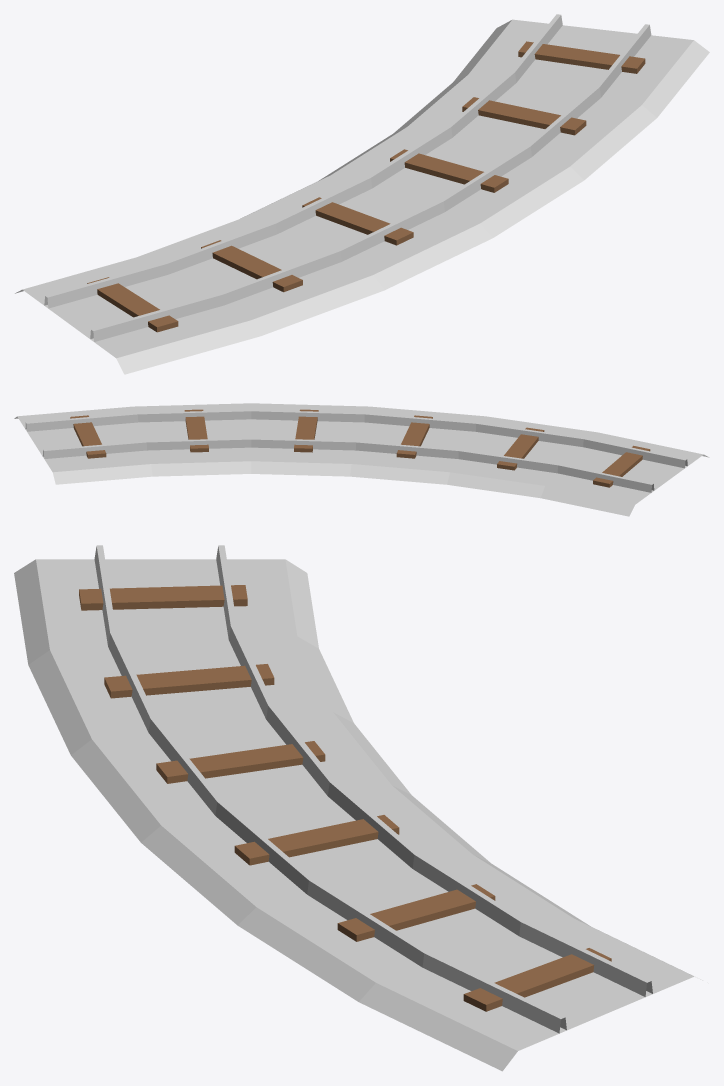
The model's file is 1_curve_medium_half.fbx.
The picture shows the model from 3 angles, top to bottom: view 1: azimuth 30°, elevation 25°; view 2: azimuth 150°, elevation 25°; view 3: azimuth 270°, elevation 25°; orthographic projection. The views are drawn at different scales.
Visible parts, largest first — view 1: 1_curve_medium_half; view 2: 1_curve_medium_half; view 3: 1_curve_medium_half.
Boxes of the visible parts, x1,y1,x2,y2 form: 1_curve_medium_half: (15, 14, 709, 374); 1_curve_medium_half: (14, 403, 709, 516); 1_curve_medium_half: (14, 545, 702, 1071).
Bounding box in the file's own units: 7.75 × 0.2 × 4.57.
